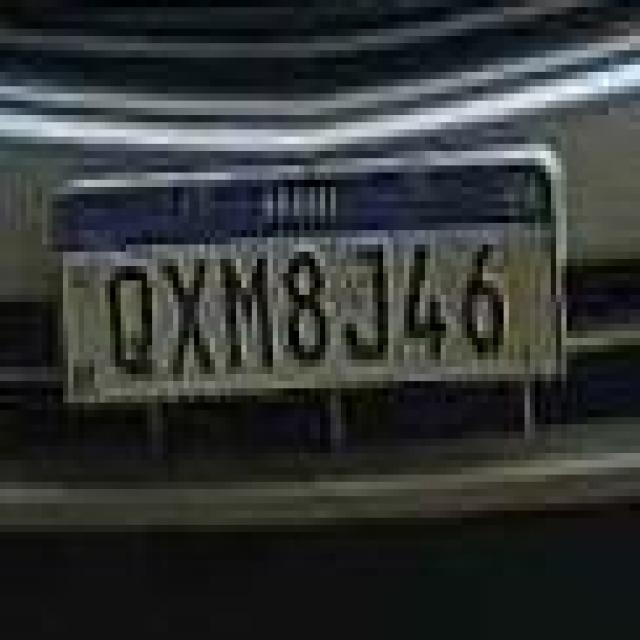4: (400, 236, 449, 368)
6: (457, 230, 512, 366)
8: (282, 240, 328, 368)
J: (338, 234, 394, 370)
M: (217, 246, 272, 376)
Q: (104, 256, 158, 383)
X: (161, 247, 215, 381)
